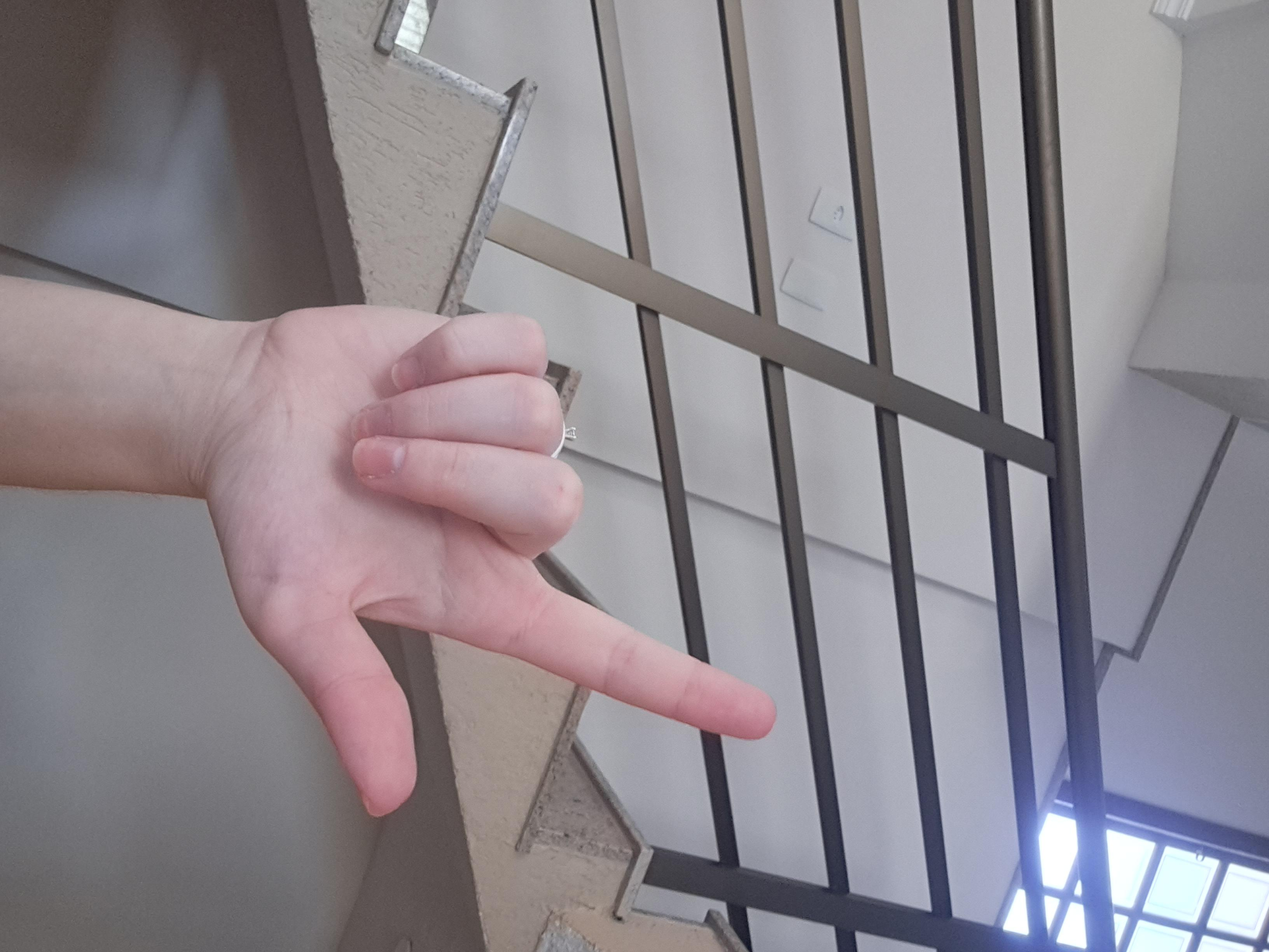L: (384, 370, 1115, 790)
